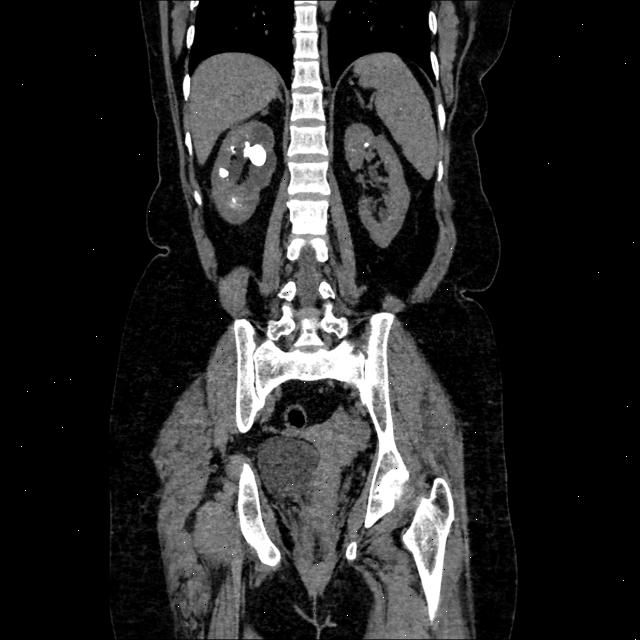kidneystone: (244, 142, 266, 167), (224, 196, 242, 221), (219, 167, 229, 178), (364, 140, 370, 149), (230, 145, 235, 149)
